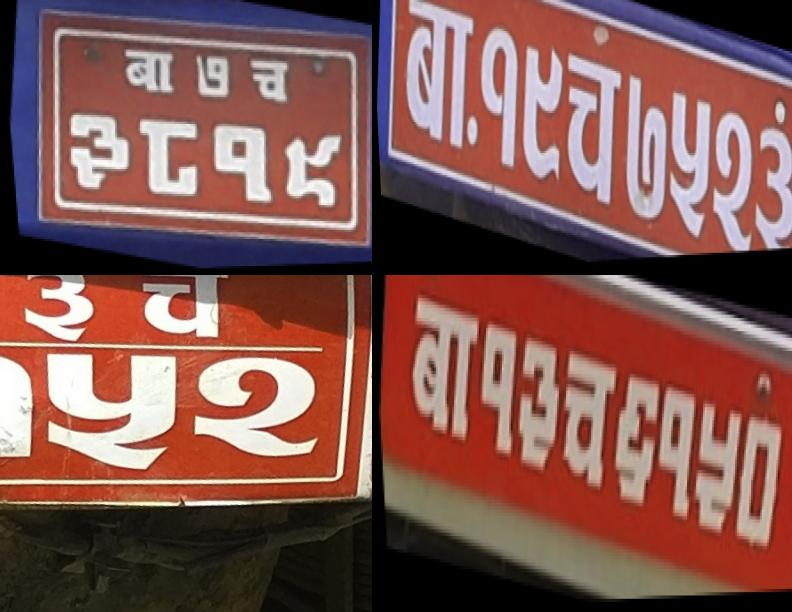0: (724, 403, 788, 564)
1: (468, 11, 526, 182), (196, 115, 283, 221), (470, 307, 525, 474), (646, 377, 702, 537), (0, 332, 48, 493)
2: (167, 342, 335, 481), (701, 94, 760, 258)
3: (503, 323, 568, 491), (51, 100, 139, 199), (0, 275, 105, 350), (742, 109, 792, 256)
5: (11, 333, 196, 494), (658, 79, 720, 257), (680, 392, 746, 556)
6: (603, 358, 665, 520)
7: (614, 66, 676, 242), (183, 46, 237, 109)
8: (123, 107, 208, 208)
9: (511, 30, 569, 195), (268, 120, 347, 221)
ba: (393, 275, 490, 462), (393, 0, 482, 163), (114, 40, 182, 107)
cha: (554, 37, 630, 225), (548, 337, 624, 509), (112, 275, 234, 355), (238, 48, 298, 115)
